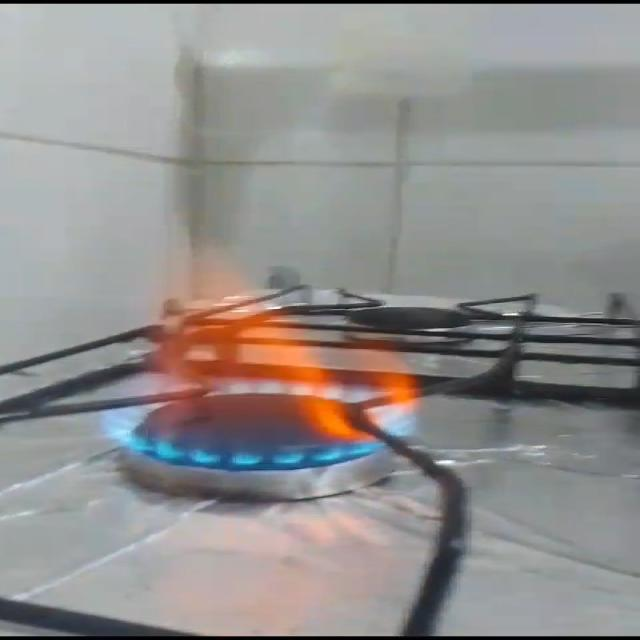fogo-ypXI: (92, 242, 435, 472)
